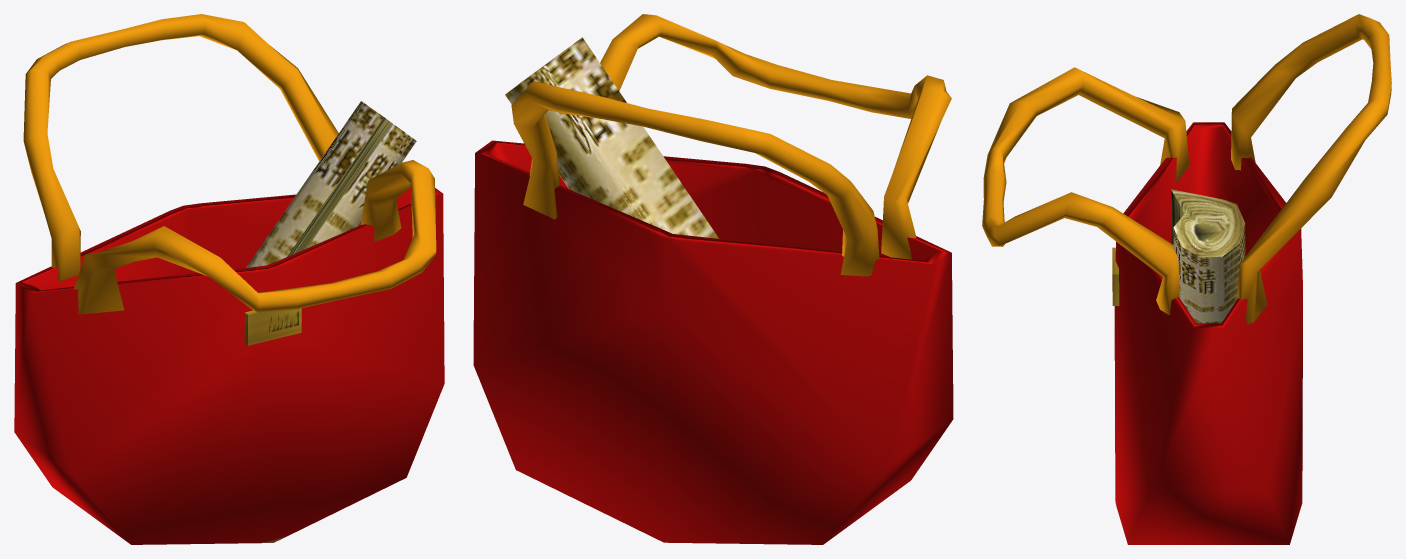
The model's file is obj_fancyBag.fbx.
3 views of the same model, side by side, from view 1: azimuth 30°, elevation 25°; view 2: azimuth 150°, elevation 25°; view 3: azimuth 270°, elevation 25° (orthographic). The views are drawn at different scales.
Parts seen in each view (by area): view 1: pCube77; view 2: pCube77; view 3: pCube77.
Boxes of the visible parts, box(x1,y1,x2,y2) form: pCube77: box(14, 14, 444, 544); pCube77: box(473, 14, 953, 544); pCube77: box(982, 14, 1391, 544).
Size of the model in its own units: 1.5 by 1.47 by 1.26.
1 material, 1 textured.
